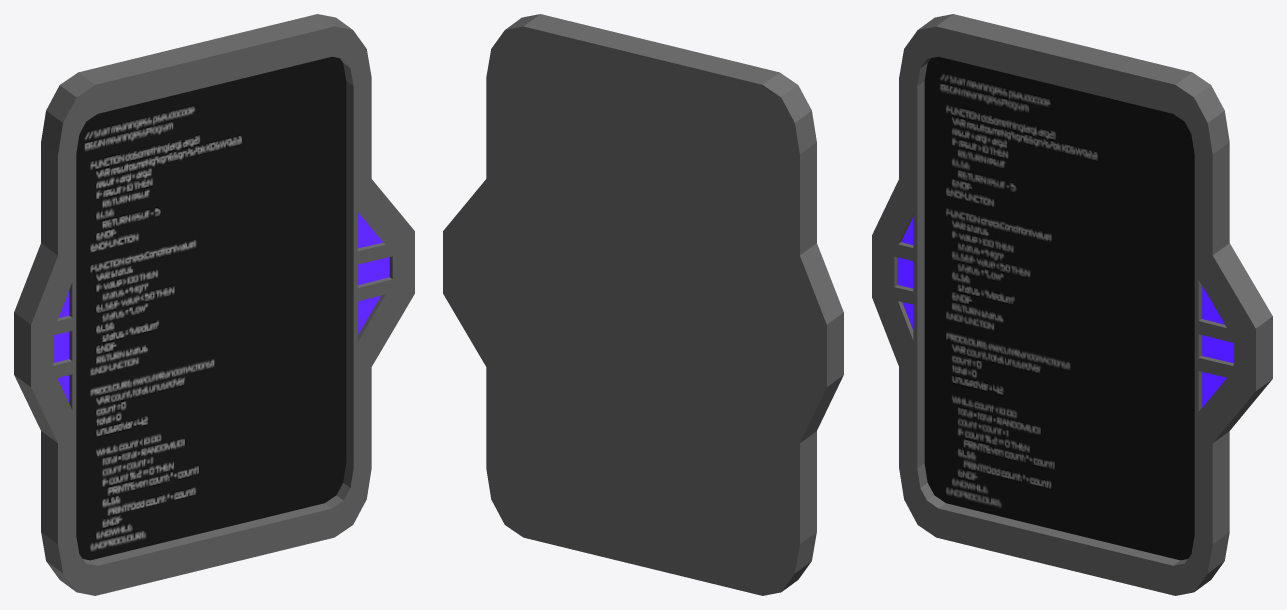
File: DataPadModel.glb
3 views of the same model, side by side, from view 1: azimuth 30°, elevation 25°; view 2: azimuth 150°, elevation 25°; view 3: azimuth 330°, elevation 25° (orthographic).
Parts seen in each view (by area): view 1: DataPad; view 2: DataPad; view 3: DataPad.
Boxes of the visible parts, left/top/right/bottom form: DataPad: left=14, top=14, right=414, bottom=595; DataPad: left=443, top=14, right=843, bottom=595; DataPad: left=872, top=14, right=1272, bottom=595.
Bounding box in the file's own units: 0.4464 × 0.5682 × 0.0344.
Materials: 3 (1 with a texture image).
